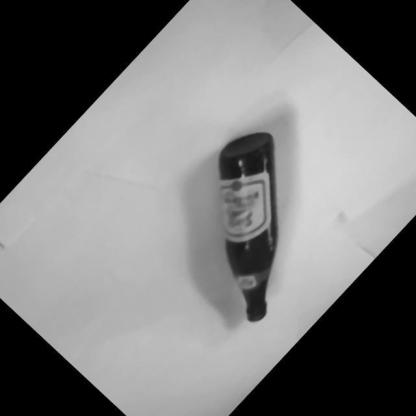Can: (218, 132, 360, 328)
